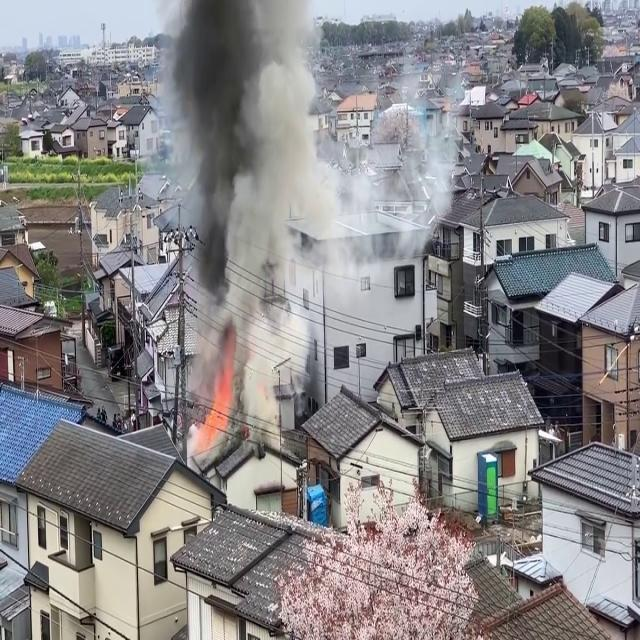Fire: (192, 358, 236, 455)
Smoke: (171, 0, 332, 423), (350, 39, 470, 260)
